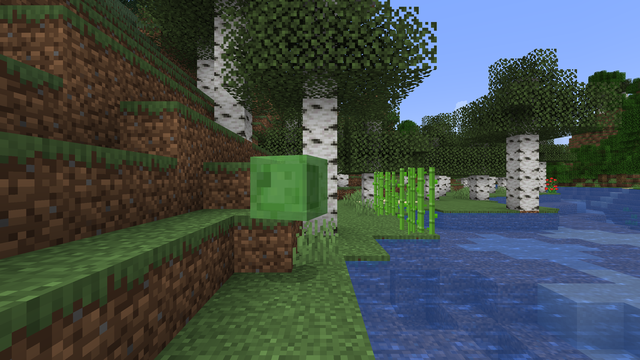slimes: (254, 152, 321, 219)
